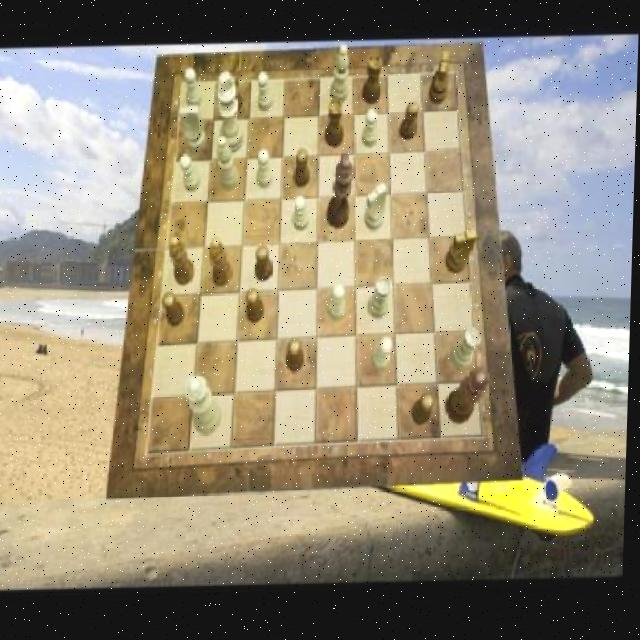bishop: (170, 236, 196, 288), (210, 237, 234, 289)
black-bishop: (327, 155, 356, 232)
black-king: (447, 232, 479, 276), (430, 54, 451, 108)
black-knight: (163, 292, 187, 327), (415, 395, 438, 428), (400, 103, 419, 142), (225, 75, 243, 114), (248, 289, 268, 324), (257, 248, 275, 284), (288, 339, 307, 373), (294, 150, 311, 188)
black-pawn: (448, 368, 493, 427)
black-queen: (364, 56, 382, 106), (327, 102, 346, 149)
black-rook: (218, 137, 243, 192), (331, 46, 350, 107)
white-bishop: (216, 72, 247, 154)
white-king: (179, 107, 207, 153), (365, 185, 389, 233)
white-knight: (180, 155, 202, 194), (185, 70, 204, 111), (373, 338, 394, 373), (257, 74, 275, 114), (258, 150, 276, 189), (330, 285, 348, 322), (362, 110, 379, 149), (294, 196, 312, 232)
white-pawn: (187, 376, 226, 437)
white-queen: (453, 330, 484, 373), (369, 278, 393, 321)
